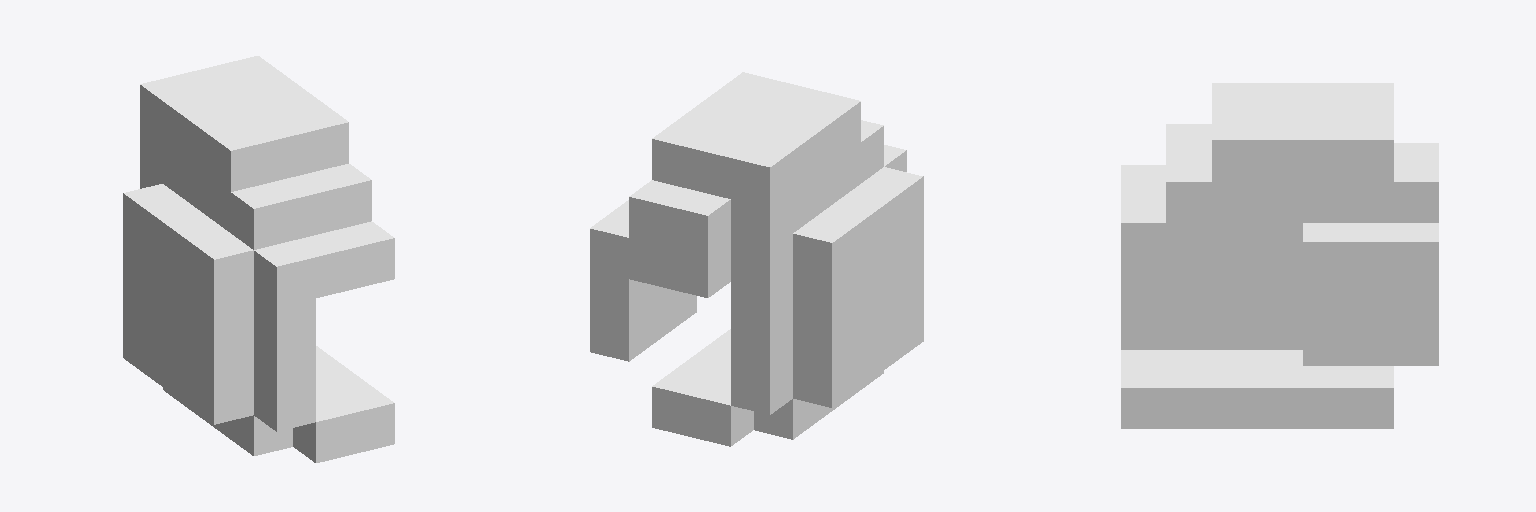
The model's file is Character-6-Lhand.obj.
3 renders of one model, left to right at view 1: azimuth 30°, elevation 25°; view 2: azimuth 150°, elevation 25°; view 3: azimuth 270°, elevation 25°, orthographic.
Visible parts, largest first — view 1: Lhand; view 2: Lhand; view 3: Lhand.
Boxes of the visible parts, x1=… form: Lhand: x1=123, y1=56, x2=394, y2=462; Lhand: x1=590, y1=72, x2=923, y2=446; Lhand: x1=1121, y1=83, x2=1438, y2=428.
Size of the model in its own units: 0.5 by 0.7 by 0.7.